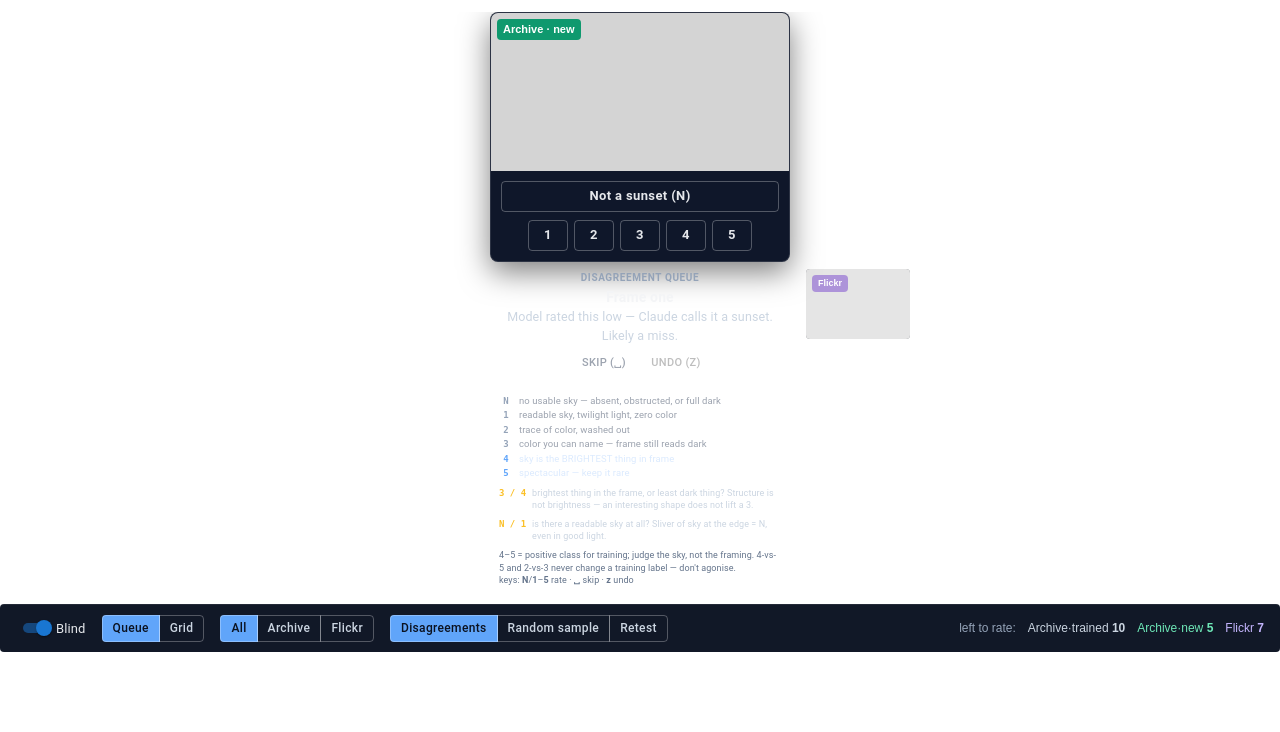
it: HardExamplesQueue random-sample queue › advances the progress readout on a confirmed save
This screenshot has width=1280, height=732.
What coordinates should you click on to do the following:
click the button "Random sample"
I would click on:
 (553, 628)
Its box is [497,615,610,642].
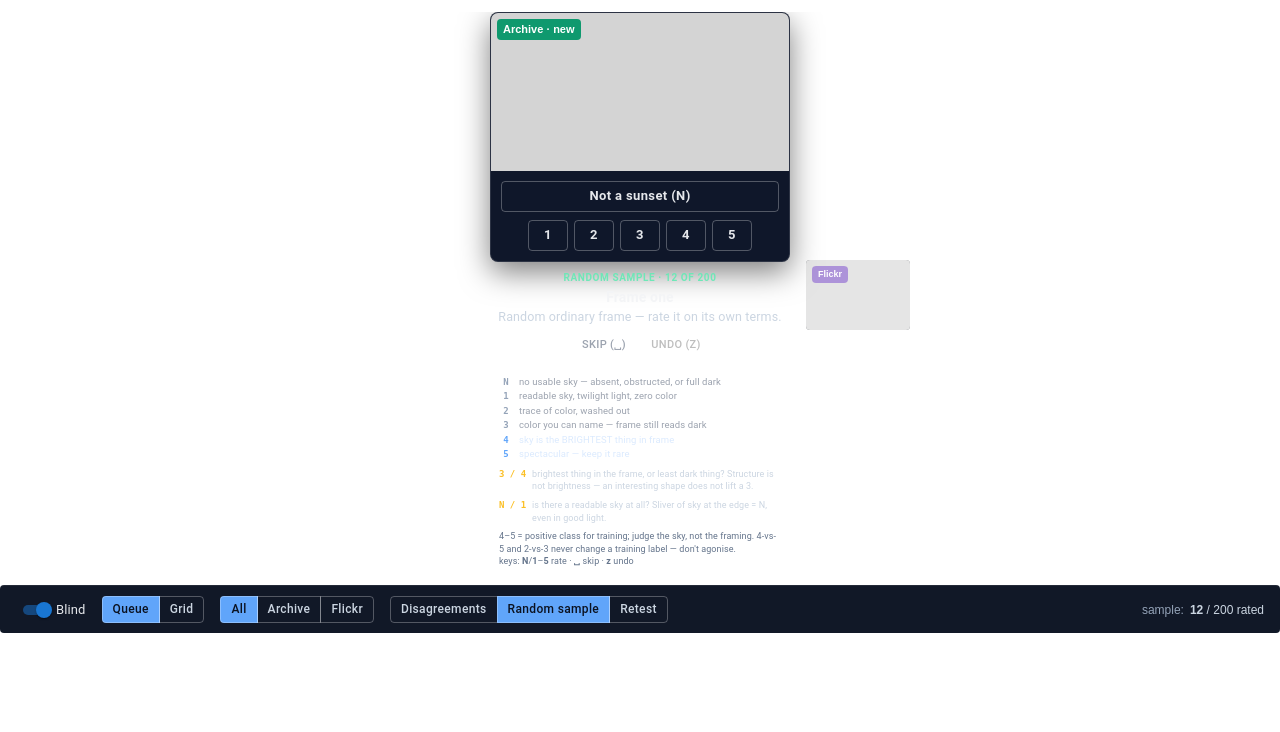
What coordinates should you click on to do the following:
click the button "Not a sunset (N)"
I would click on:
 (640, 197)
Its box is [501,181,779,212].
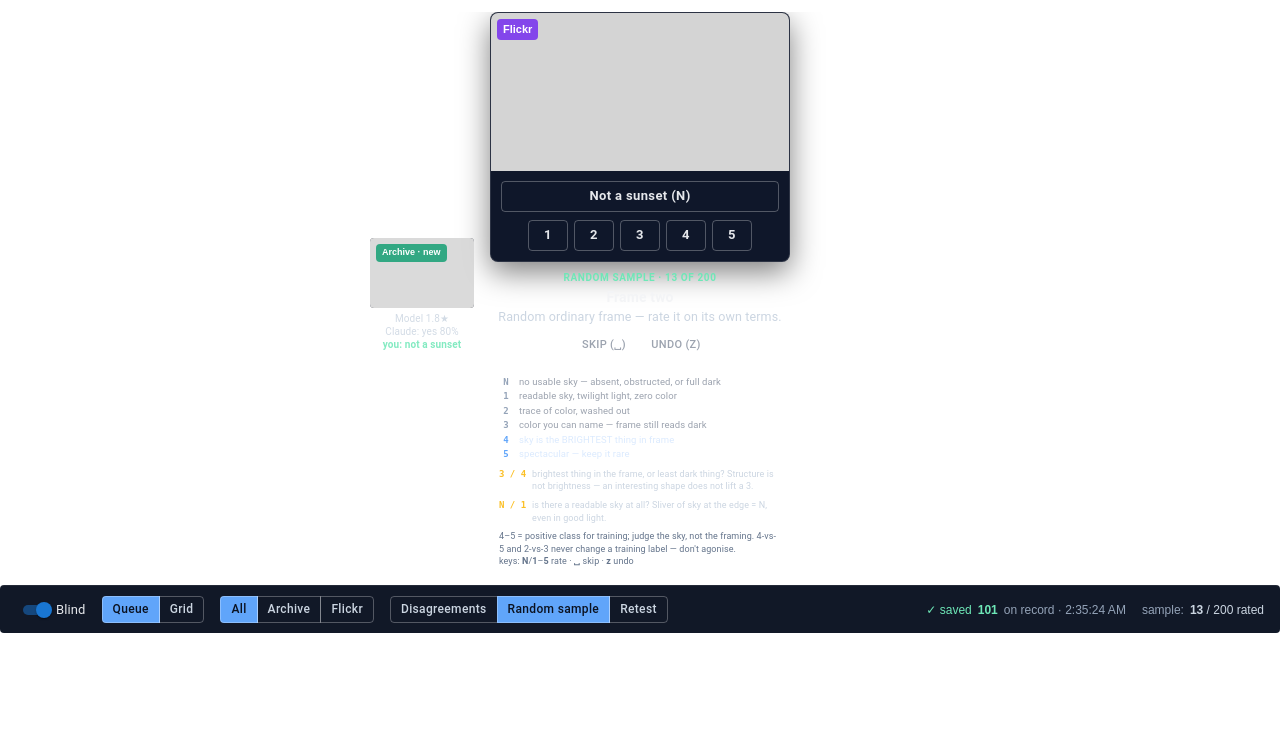
Result: the element with test id "sample-progress" shows "13 / 200" at [1142,600,1264,618]
